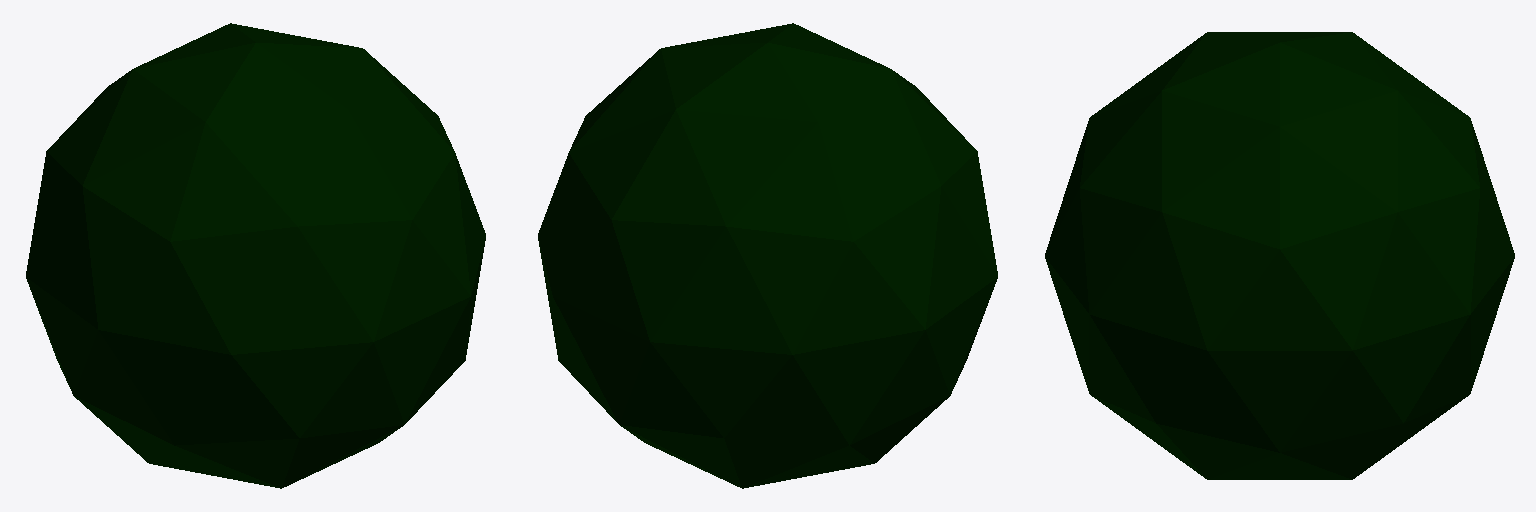
The model's file is pocivalisce.obj.
3 renders of one model, left to right at view 1: azimuth 30°, elevation 25°; view 2: azimuth 150°, elevation 25°; view 3: azimuth 270°, elevation 25°, orthographic.
Parts seen in each view (by area): view 1: Icosphere; view 2: Icosphere; view 3: Icosphere.
Part boxes in pixels (left/top/right/bottom): Icosphere: left=26, top=23, right=485, bottom=488; Icosphere: left=538, top=23, right=997, bottom=488; Icosphere: left=1045, top=32, right=1514, bottom=479.
Size of the model in its own units: 1.9 by 2 by 2.